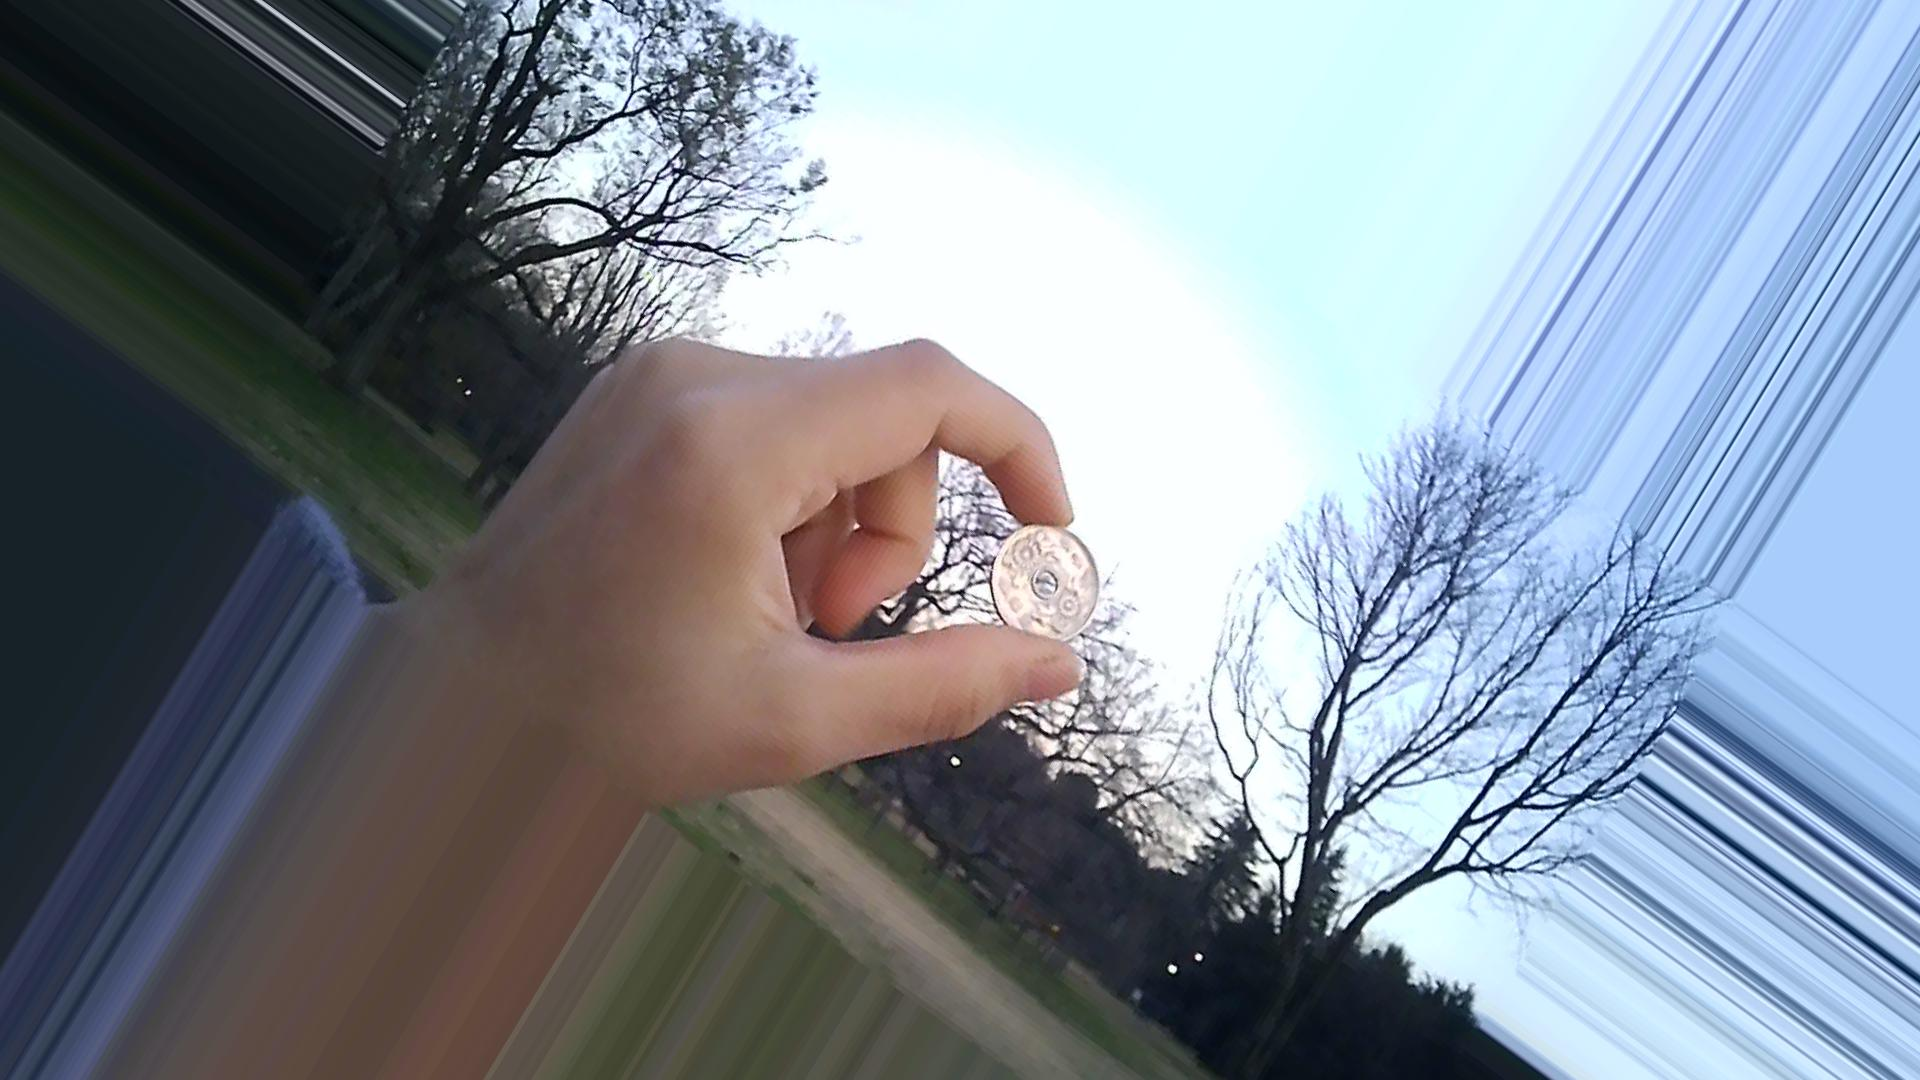50 Yen: (986, 506, 1108, 644)
